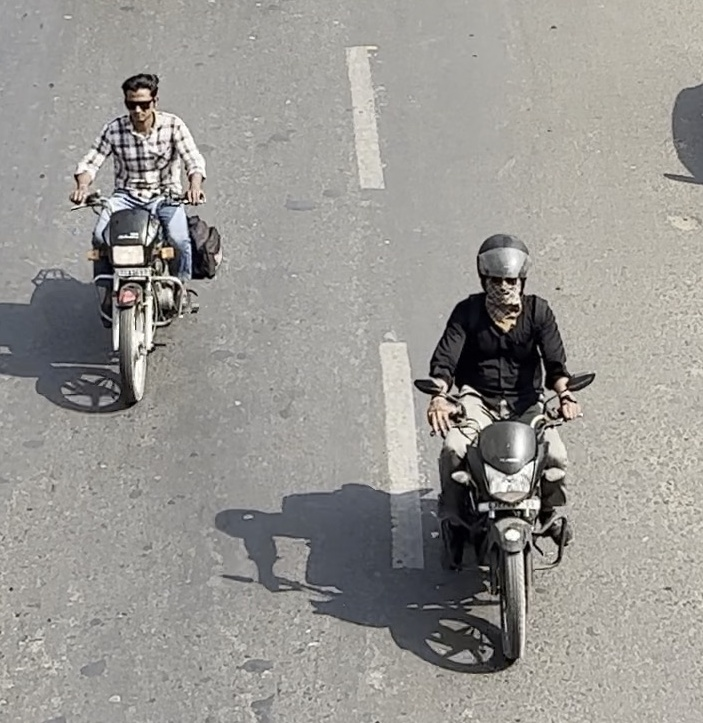BikeWithRider: (379, 223, 643, 681), (53, 45, 239, 423)
Helmet: (472, 227, 537, 309)
NoHelmet: (117, 67, 169, 121)
